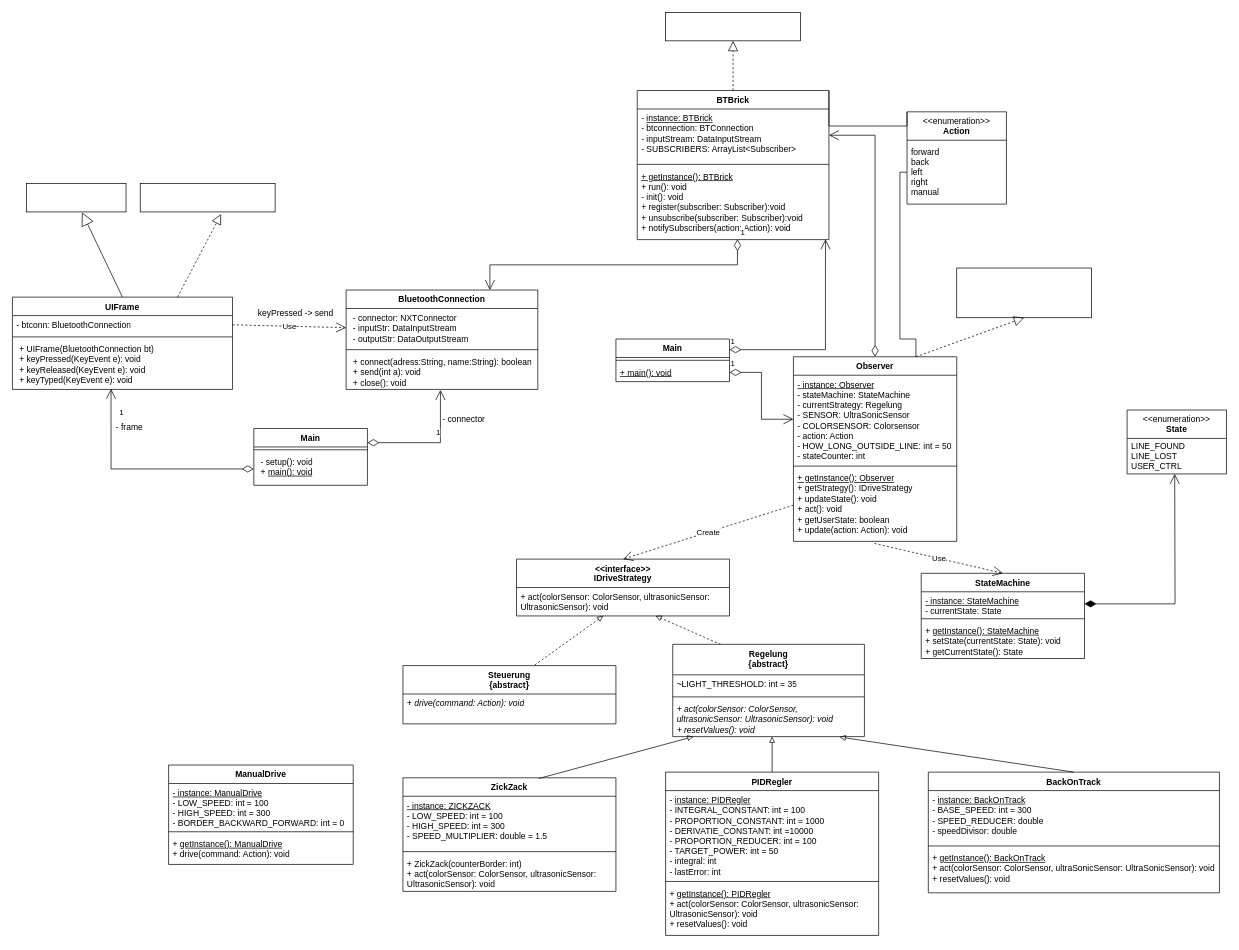
Image size: 1239x950. Some labels were removed from this diagram. Each missing label, with the centre of its shape:
<<Interface>> java.awt.event.KeyListener: pixel 207 197
<<Interface>> java.lang.Runnable: pixel 733 26
<<Interface>> Subscriber + update(action: Action): void: pixel 1024 292
javax.swing.JFrame: pixel 76 197
